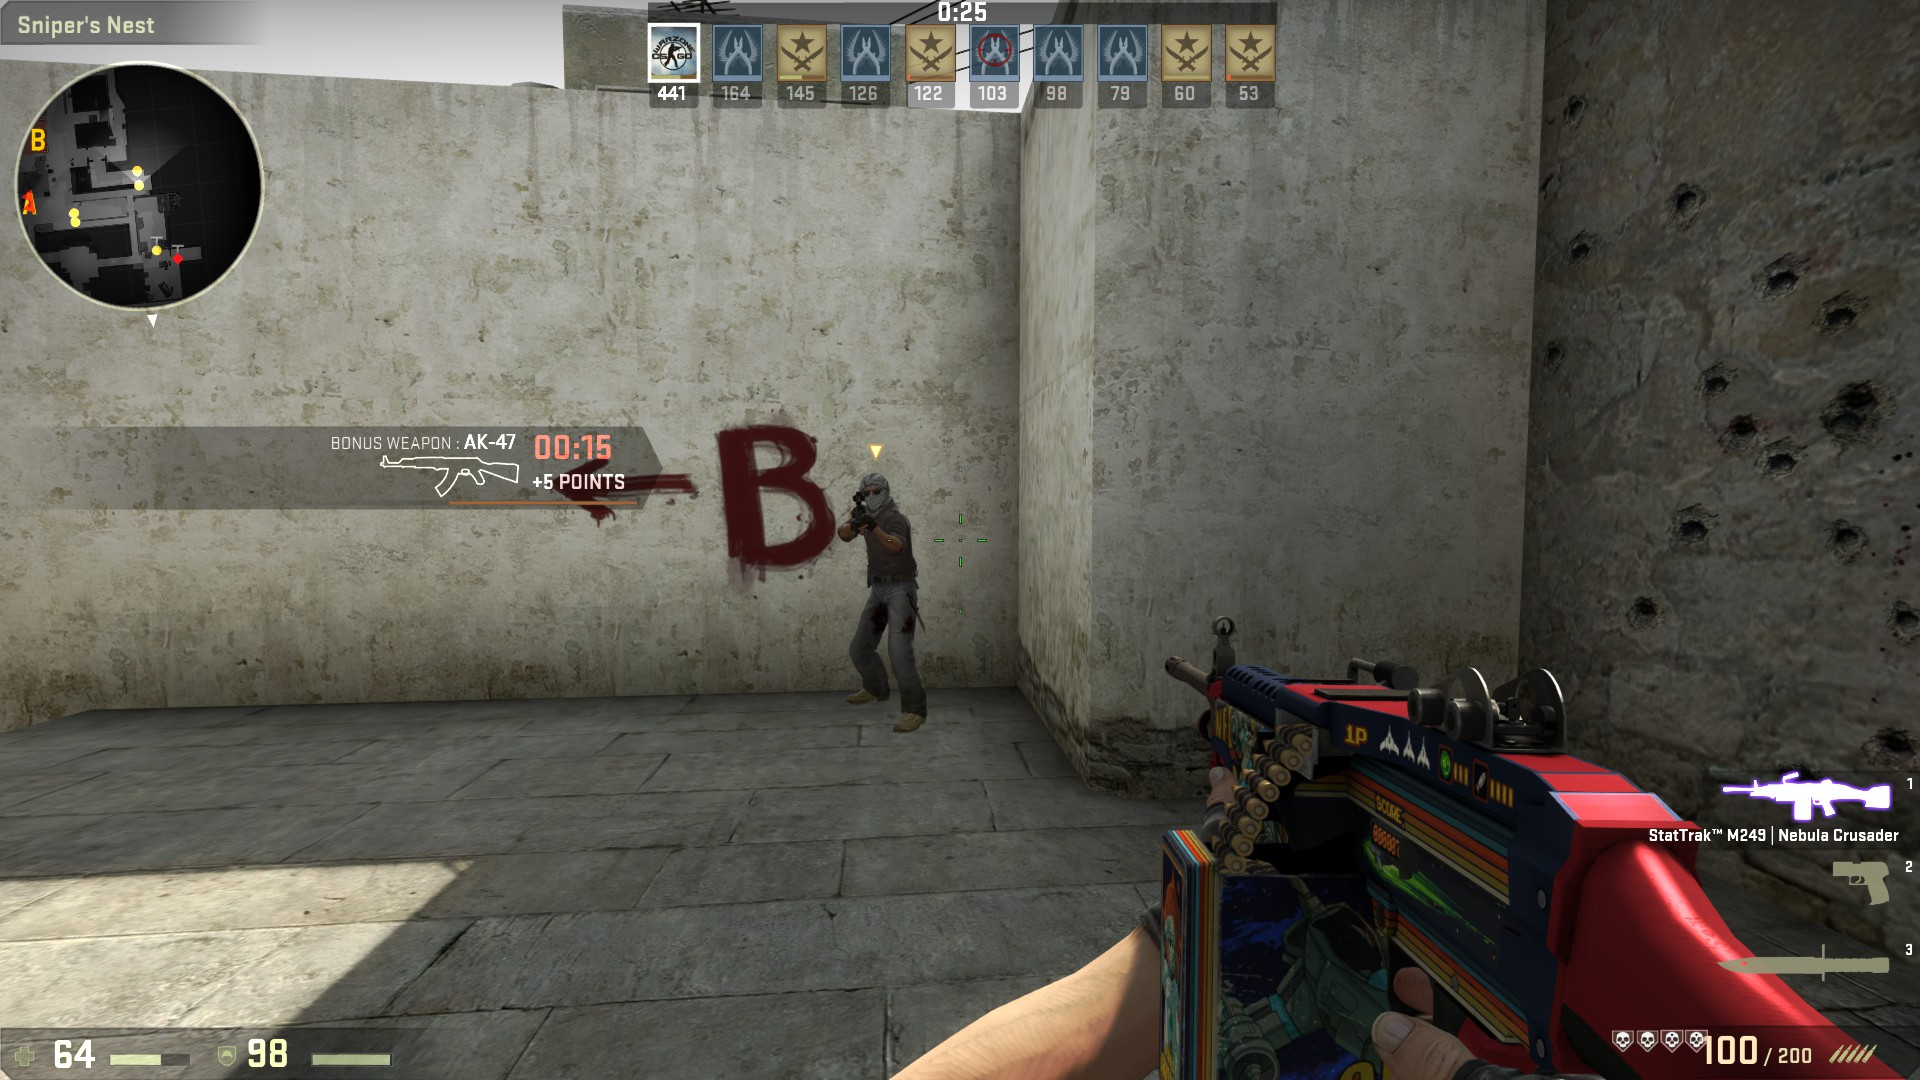t: (845, 471, 922, 725)
th: (857, 472, 894, 516)
